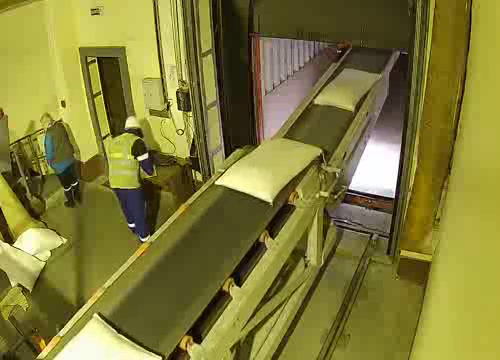bag: (209, 135, 326, 208), (52, 311, 164, 359), (312, 67, 384, 114)
